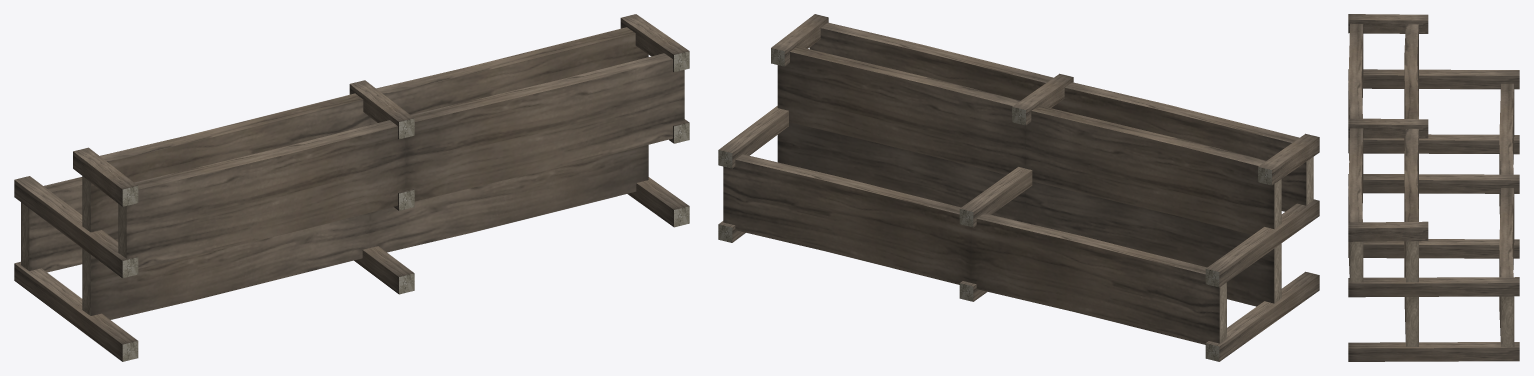
The model's file is Counter_Type_02_D.fbx.
3 views of the same model, side by side, from view 1: azimuth 30°, elevation 25°; view 2: azimuth 150°, elevation 25°; view 3: azimuth 270°, elevation 25° (orthographic). The views are drawn at different scales.
Parts seen in each view (by area): view 1: Counter_Type_02_D; view 2: Counter_Type_02_D; view 3: Counter_Type_02_D.
Part boxes in pixels (left/top/right/bottom): Counter_Type_02_D: left=14, top=14, right=689, bottom=361; Counter_Type_02_D: left=718, top=14, right=1319, bottom=361; Counter_Type_02_D: left=1348, top=14, right=1519, bottom=361.
Bounding box in the file's own units: 6.64 × 1.93 × 2.24.
